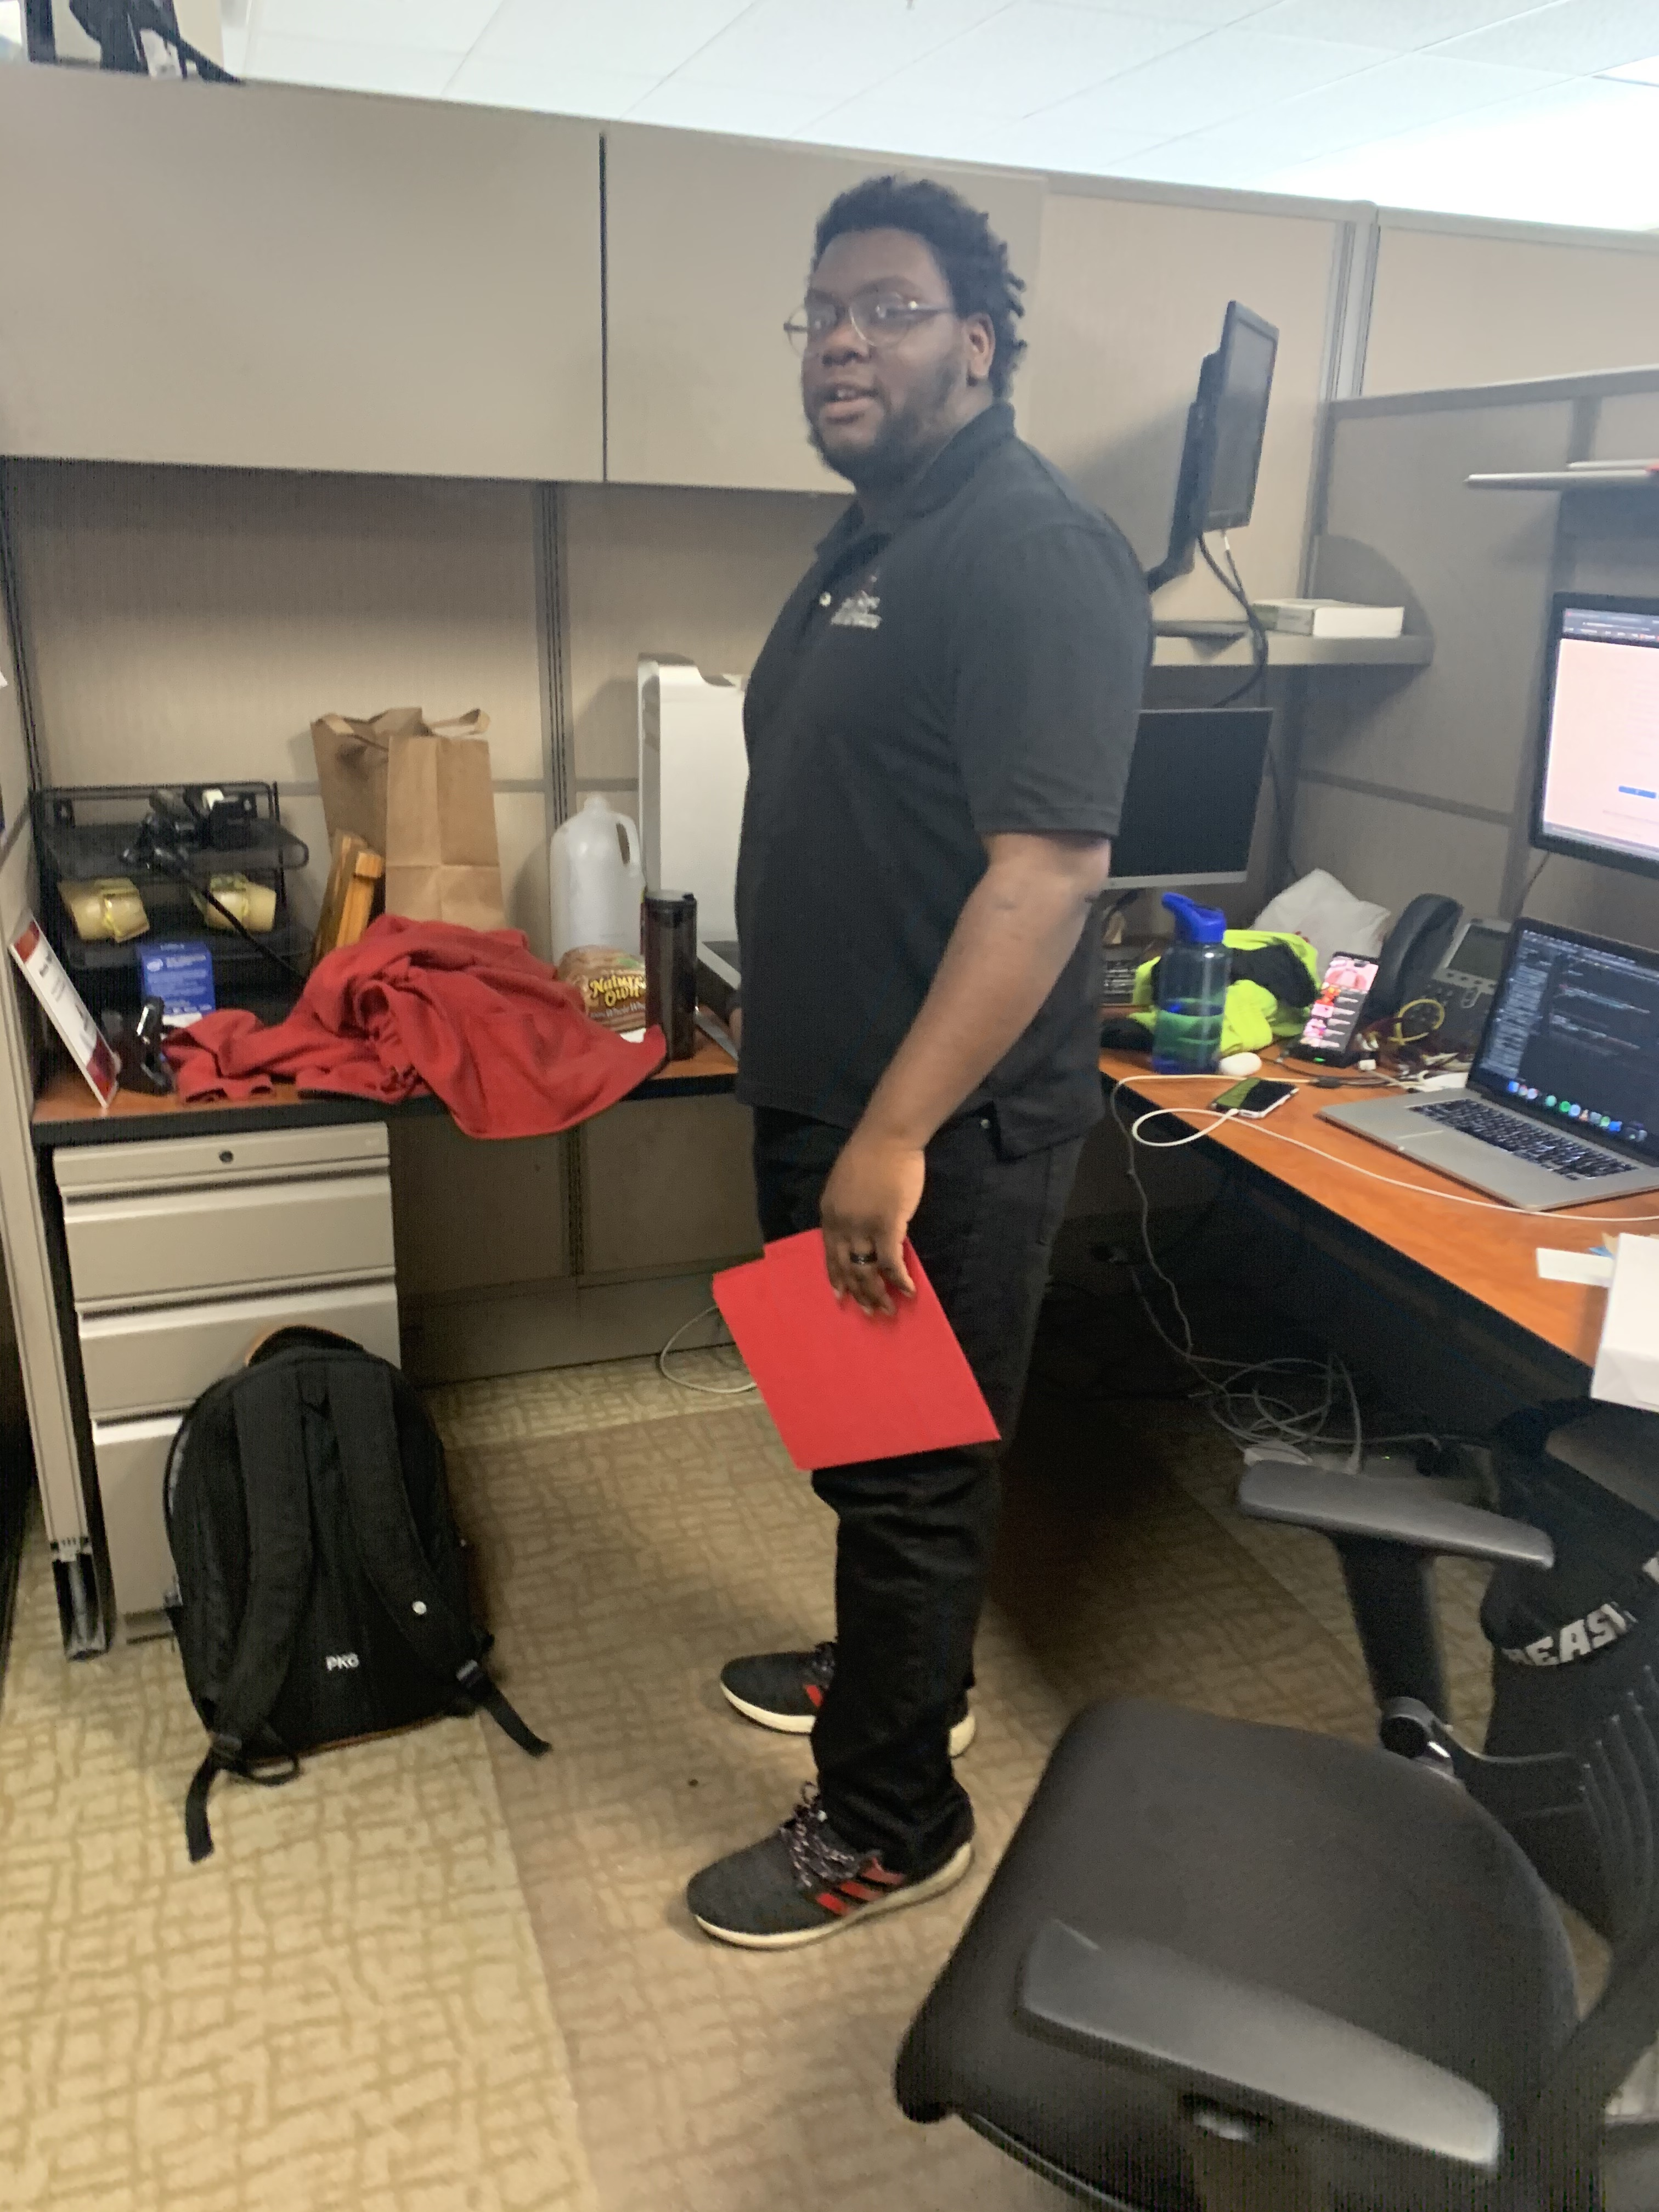red folder: (699, 1231, 1025, 1482)
